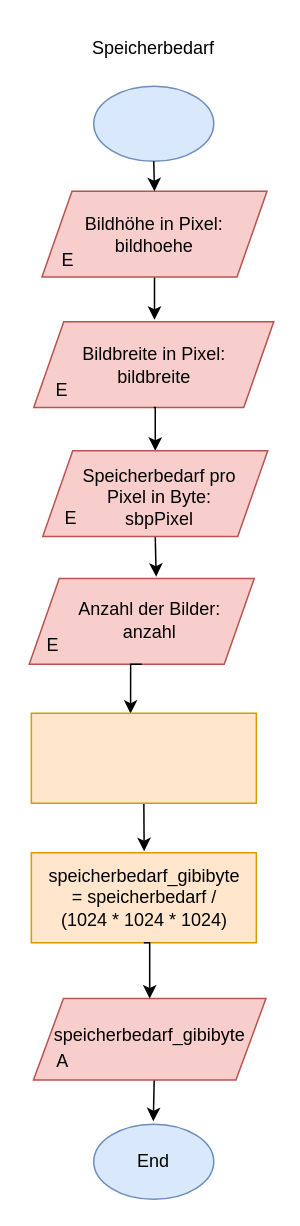
Some shapes in this 300 by 1226 pixel diagram are drawn without their labels. Each missing label, with the centre of its shape:
"speicherbedarf = bildhoehe * bildbreite * sbpPixel * anzahl" belongs at [143,757].
"Start" belongs at [153,123].
